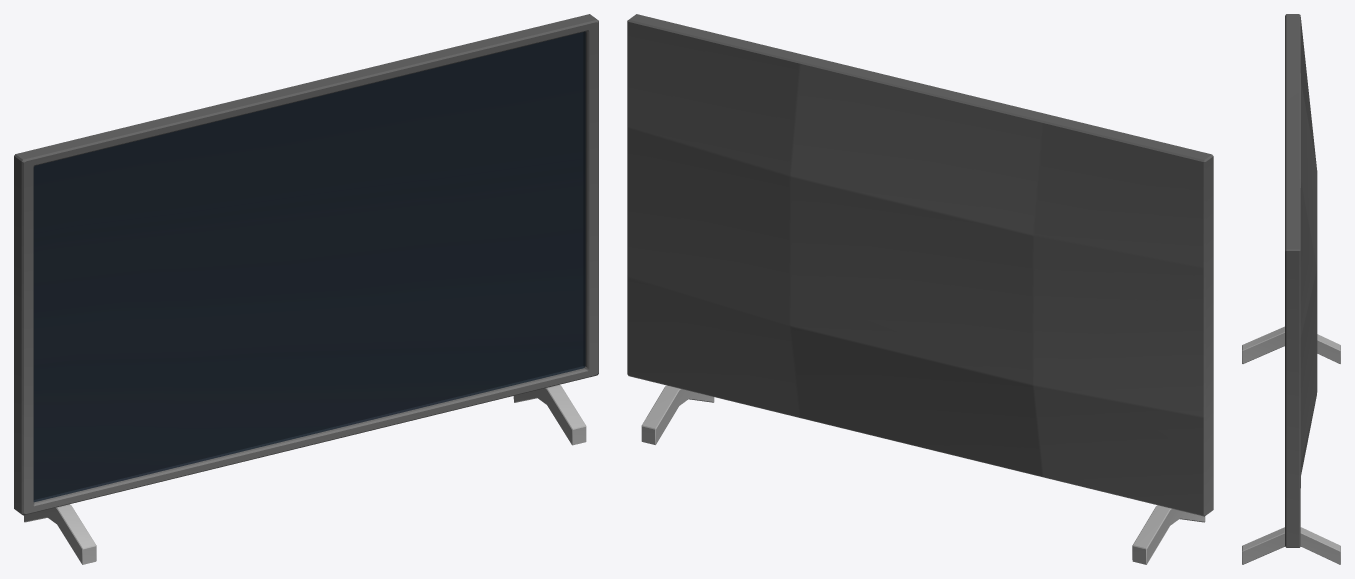
The picture shows the model from 3 angles, left to right: view 1: azimuth 30°, elevation 25°; view 2: azimuth 150°, elevation 25°; view 3: azimuth 270°, elevation 25°; orthographic projection. The views are drawn at different scales.
Parts seen in each view (by area): view 1: TV; view 2: TV; view 3: TV.
Boxes of the visible parts, <box> form: TV: <box>14,14,598,564</box>; TV: <box>627,14,1213,564</box>; TV: <box>1242,14,1340,564</box>.
Bounding box in the file's own units: 86.02 × 56.17 × 15.19.
